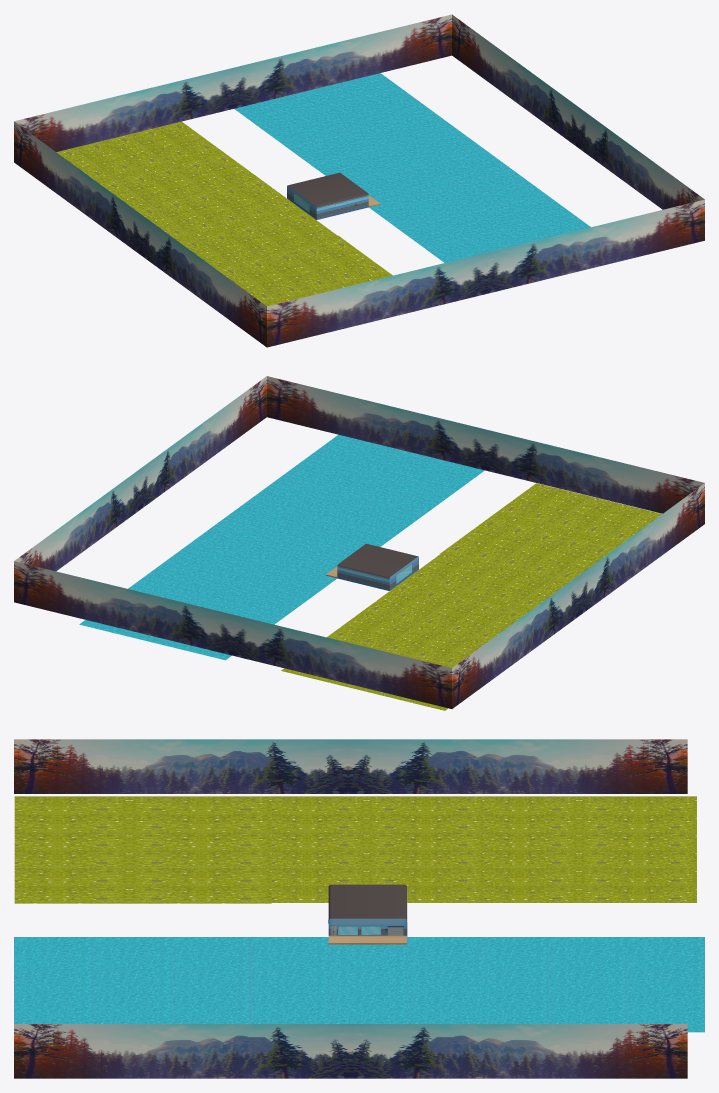
Rendered from GARAGE (3).fbx.
3 renders of one model, top to bottom at view 1: azimuth 30°, elevation 25°; view 2: azimuth 150°, elevation 25°; view 3: azimuth 270°, elevation 25°, orthographic. The views are drawn at different scales.
Parts seen in each view (by area): view 1: Bg_garage_texture_0, garage_garage_texture_0.043, garage_garage_texture_0.042; view 2: Bg_garage_texture_0, garage_garage_texture_0.043, garage_garage_texture_0.042; view 3: Bg_garage_texture_0, garage_garage_texture_0.042, garage_garage_texture_0.043, garage_garage_texture_0.
Part boxes in pixels (left/top/right/bottom): Bg_garage_texture_0: left=14, top=14, right=704, bottom=347; garage_garage_texture_0.043: left=234, top=73, right=590, bottom=262; garage_garage_texture_0.042: left=56, top=121, right=392, bottom=306; Bg_garage_texture_0: left=14, top=376, right=704, bottom=708; garage_garage_texture_0.043: left=79, top=434, right=484, bottom=660; garage_garage_texture_0.042: left=281, top=483, right=661, bottom=710; Bg_garage_texture_0: left=14, top=739, right=687, bottom=1078; garage_garage_texture_0.042: left=14, top=796, right=696, bottom=903; garage_garage_texture_0.043: left=14, top=884, right=704, bottom=1032; garage_garage_texture_0: left=328, top=897, right=406, bottom=944.
Size of the model in its own units: 566 by 51.13 by 581.
Materials: 2 (2 with a texture image).
